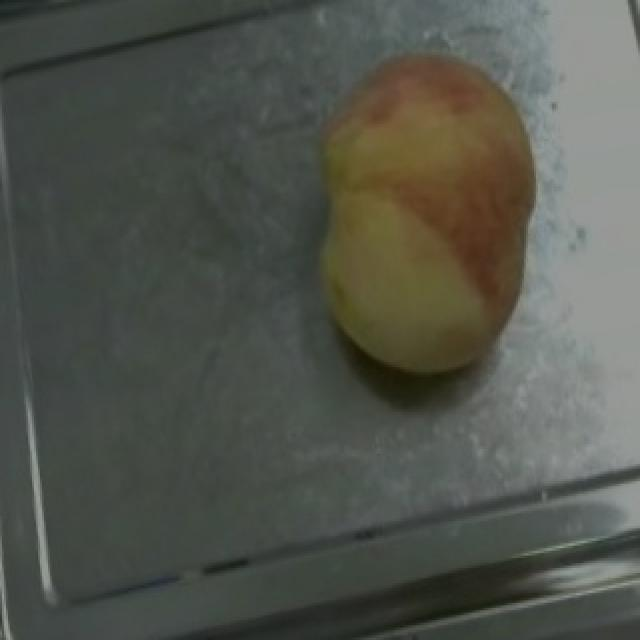Fruit: (274, 17, 578, 407)
